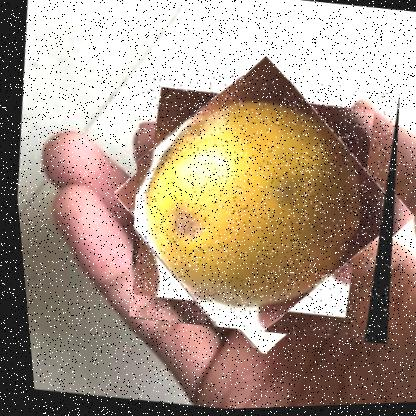orange: (104, 58, 415, 355)
